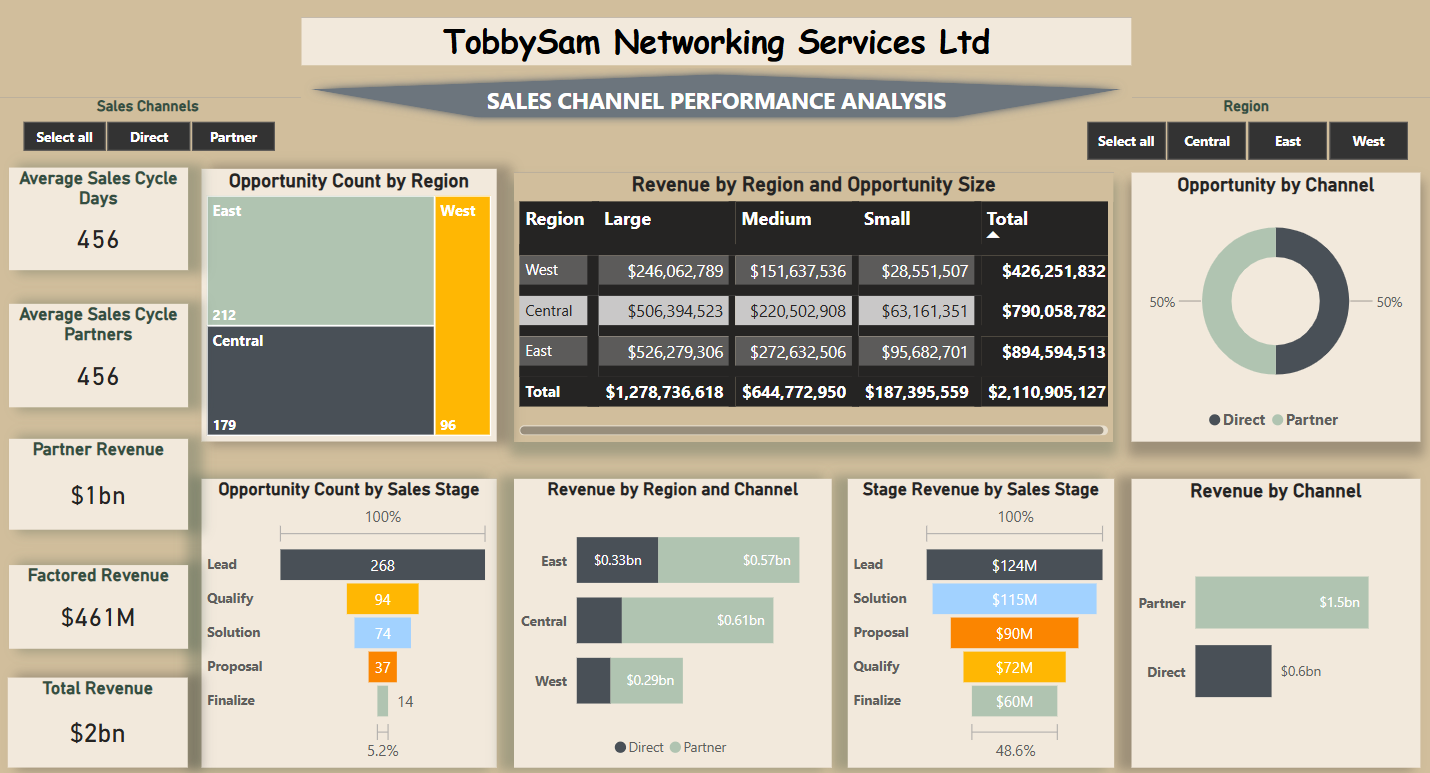

The page's visual inventory and layout, read from the dashboard file:
{"tool":"powerbi","page":{"name":"Page 1","canvas":[1280,720],"ordinal":0},"visuals":[{"type":"clusteredBarChart","title":"Revenue by Channel","fields":{"Category":["Partner.Channel"],"Y":["Fact.Total Revenue"]},"box":[1011.1,436.7,256.7,256.7],"z":0},{"type":"card","title":"Total Revenue","fields":{"Values":["Fact.Total Revenue"]},"box":[11.9,613.3,160,80],"z":0,"group":"g1"},{"type":"donutChart","title":"Opportunity by Channel","fields":{"Category":["Fact.Channel"],"Y":["CountNonNull(Opportunity.Opportunity ID)"]},"box":[1011.1,164.4,256.7,238.9],"z":1000},{"type":"treemap","fields":{"Group":["Account.Region"],"Values":["Fact.Opportunity Count"]},"box":[184.4,161.1,262.2,242.2],"z":2000},{"type":"funnel","fields":{"Category":["Sales Stage.Sales Stage"],"Y":["Fact.Opportunity Count"]},"box":[184.4,436.7,262.2,256.7],"z":3000},{"type":"card","title":"Average Sales Cycle Days","fields":{"Values":["Fact.Avg Sales Cycle (Days)"]},"box":[13,160,158.9,91.1],"z":4000,"group":"g1"},{"type":"funnel","fields":{"Category":["Sales Stage.Sales Stage"],"Y":["Fact.Stage Revenue"]},"box":[758.9,436.7,236.7,256.7],"z":4000},{"type":"barChart","title":"Revenue by Region and Channel","fields":{"Category":["Account.Region"],"Y":["Fact.Total Revenue"],"Series":["Fact.Channel"]},"box":[462.2,436.7,282.2,256.7],"z":5000},{"type":"pivotTable","title":"Revenue by Region and Opportunity Size","fields":{"Rows":["Account.Region"],"Columns":["Opportunity.Opportunity Size"],"Values":["Fact.Total Revenue"]},"box":[462.2,164.4,533,238.9],"z":6000},{"type":"slicer","title":"Region","fields":{"Values":["Account.Region"]},"box":[945.6,97.8,335,62.2],"z":7000},{"type":"slicer","title":"Sales Channels","fields":{"Values":["Fact.Channel"]},"box":[0,97.8,273.3,51.1],"z":8000},{"type":"shape","title":"TobbySam Networking Services Ltd","box":[273.3,26.7,737.8,96.7],"z":9000},{"type":"group","id":"g1","title":"Group 1","box":[11.9,160,160,533.3],"z":10000},{"type":"card","title":"Partner Revenue","fields":{"Values":["Sales Stage.Partner Revenue"]},"box":[13,401.1,158.9,81.1],"z":13000,"group":"g1"},{"type":"card","title":"Factored Revenue","fields":{"Values":["Sum(Fact.FactoredProductRevenue)"]},"box":[13,513.3,158.9,74.4],"z":15000,"group":"g1"},{"type":"card","title":"Average Sales Cycle Partners","fields":{"Values":["Fact.Avg Sales Cycle (Partners)"]},"box":[13,281.1,158.9,92.2],"z":16001,"group":"g1"}]}

Visuals, with their boxes on the page's 1280x720 design canvas (x1, y1, x2, y2). These are canvas units, not pixel positions in the 1430x773 screenshot, which may show the page scaled, cropped or inside an application window:
"Revenue by Channel" clusteredBarChart: <box>1011,437,1268,693</box>
"Total Revenue" card: <box>12,613,172,693</box>
"Opportunity by Channel" donutChart: <box>1011,164,1268,403</box>
treemap - Account.Region x Fact.Opportunity Count: <box>184,161,447,403</box>
funnel - Sales Stage.Sales Stage x Fact.Opportunity Count: <box>184,437,447,693</box>
"Average Sales Cycle Days" card: <box>13,160,172,251</box>
funnel - Sales Stage.Sales Stage x Fact.Stage Revenue: <box>759,437,996,693</box>
"Revenue by Region and Channel" barChart: <box>462,437,744,693</box>
"Revenue by Region and Opportunity Size" pivotTable: <box>462,164,995,403</box>
"Region" slicer: <box>946,98,1281,160</box>
"Sales Channels" slicer: <box>0,98,273,149</box>
"TobbySam Networking Services Ltd" shape: <box>273,27,1011,123</box>
"Group 1" group: <box>12,160,172,693</box>
"Partner Revenue" card: <box>13,401,172,482</box>
"Factored Revenue" card: <box>13,513,172,588</box>
"Average Sales Cycle Partners" card: <box>13,281,172,373</box>
